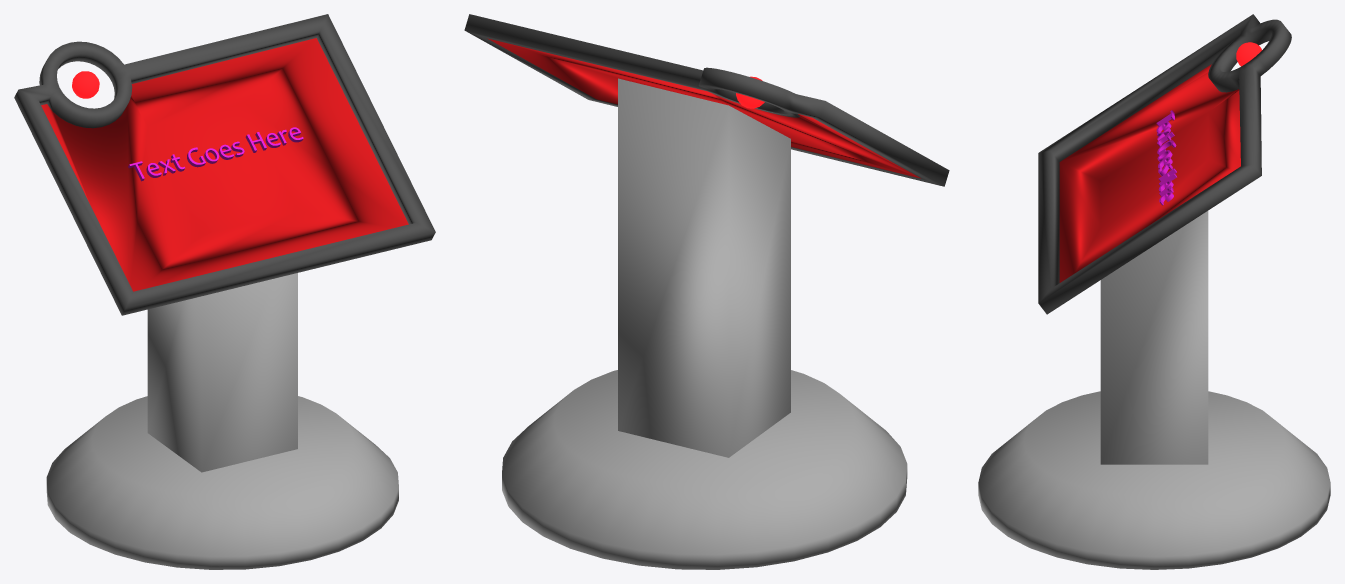
File: Camera Signs.glb
The picture shows the model from 3 angles, left to right: view 1: azimuth 30°, elevation 25°; view 2: azimuth 150°, elevation 25°; view 3: azimuth 270°, elevation 25°; orthographic projection. The views are drawn at different scales.
Visible parts, largest first — view 1: Sign, Text; view 2: Sign; view 3: Sign, Text.
Boxes of the visible parts, x1,y1,x2,y2 form: Sign: (14,14,435,569); Text: (128,127,303,181); Sign: (464,14,949,569); Sign: (978,14,1330,569); Text: (1156,110,1176,205).
Size of the model in its own units: 0.9526 by 1.26 by 0.9408.
